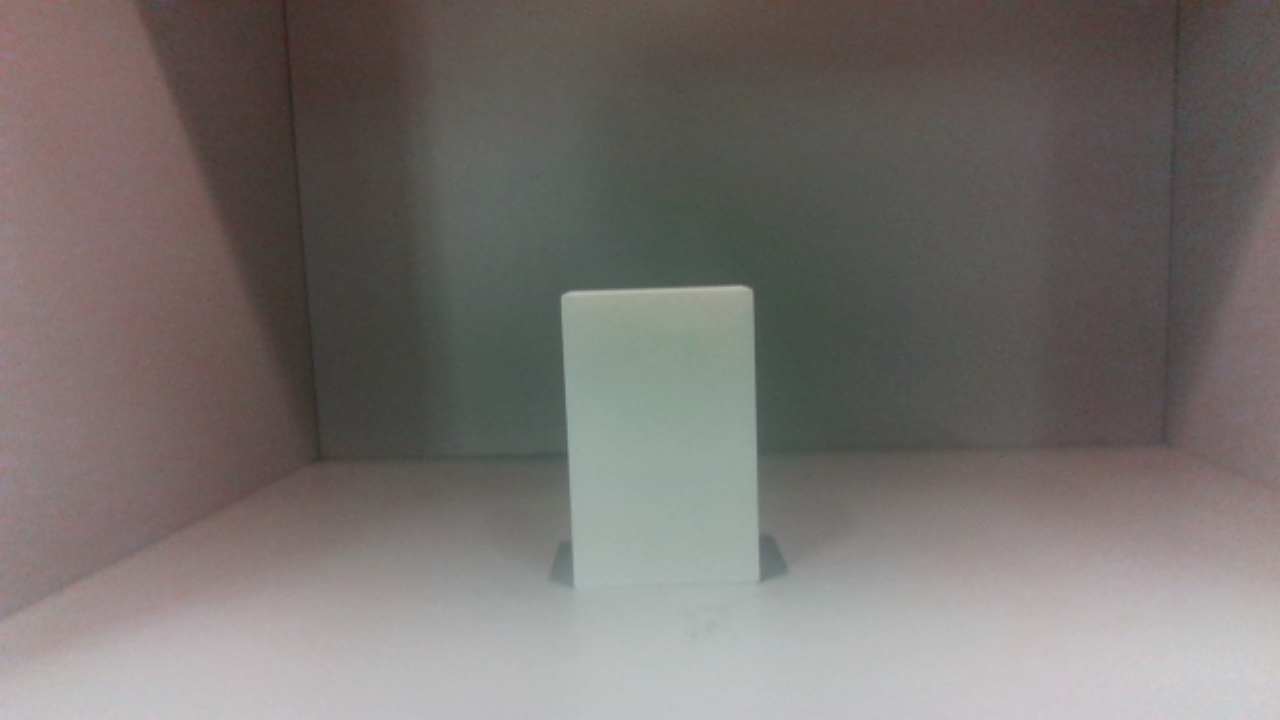Retangulo: (562, 285, 760, 586)
